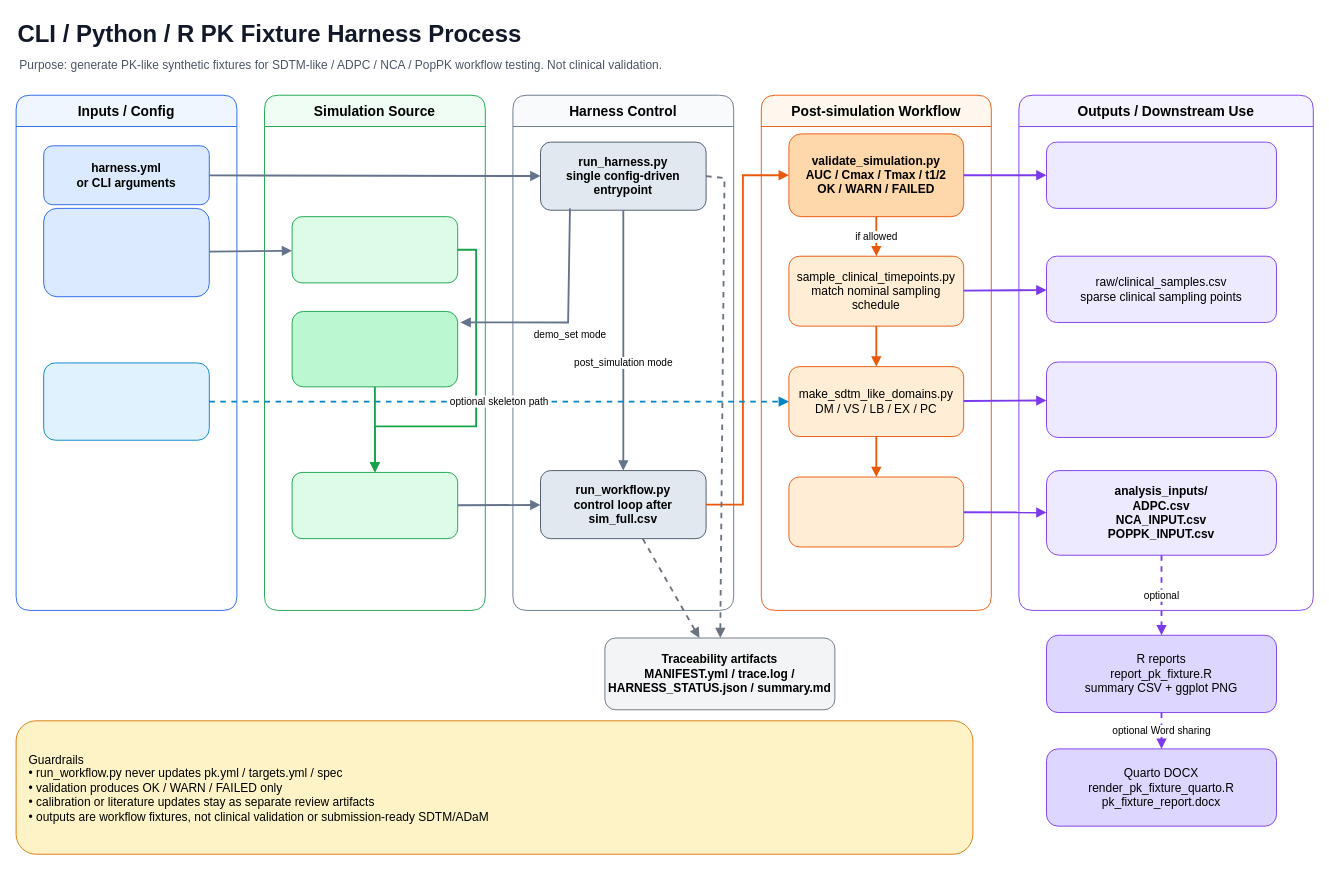
The diagram is 1329 pixels wide and 870 high, and some of its shapes have lost their labels. The shapes that lost their labels are listed below. From the top down, each one's centre as x and y in pixels, then its label:
the point at 1161,174: reports/simulation_validation.md validation status in manifest
the point at 126,252: drugs/<slug>/ pk.yml targets.yml spec_pk1_*.yml
the point at 374,249: External runner mrgsolve / local script
the point at 374,348: run_demo_set.py analytical demo multi-drug smoke test
the point at 126,401: Optional existing DM / VS / LB / PC skeletons
the point at 1161,399: sdtm_like/ DM.csv / VS.csv / LB.csv / EX.csv / PC.csv
the point at 374,505: raw/sim_full.csv dense concentration-time data
the point at 876,511: make_analysis_inputs.py ADPC-like / NCA / PopPK CSV
